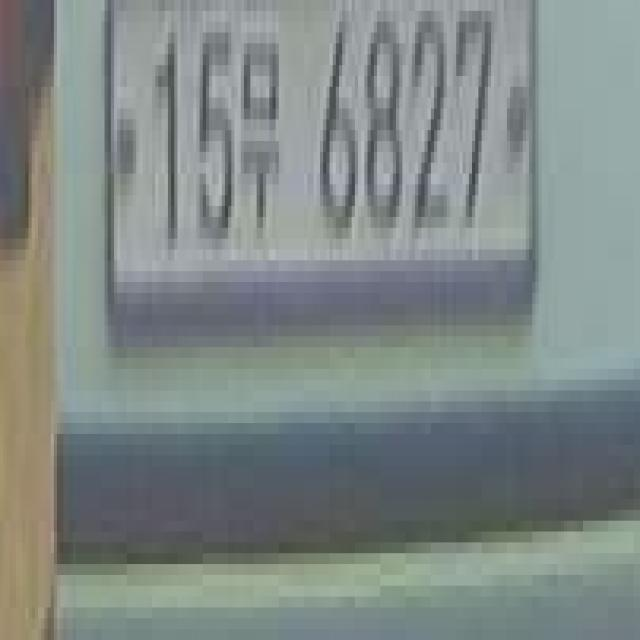1: (149, 11, 190, 260)
2: (406, 11, 453, 260)
5: (193, 22, 238, 271)
6: (317, 11, 361, 249)
7: (453, 11, 497, 260)
8: (361, 11, 409, 249)
license_plate: (92, 11, 545, 336)
mu: (238, 22, 288, 250)
